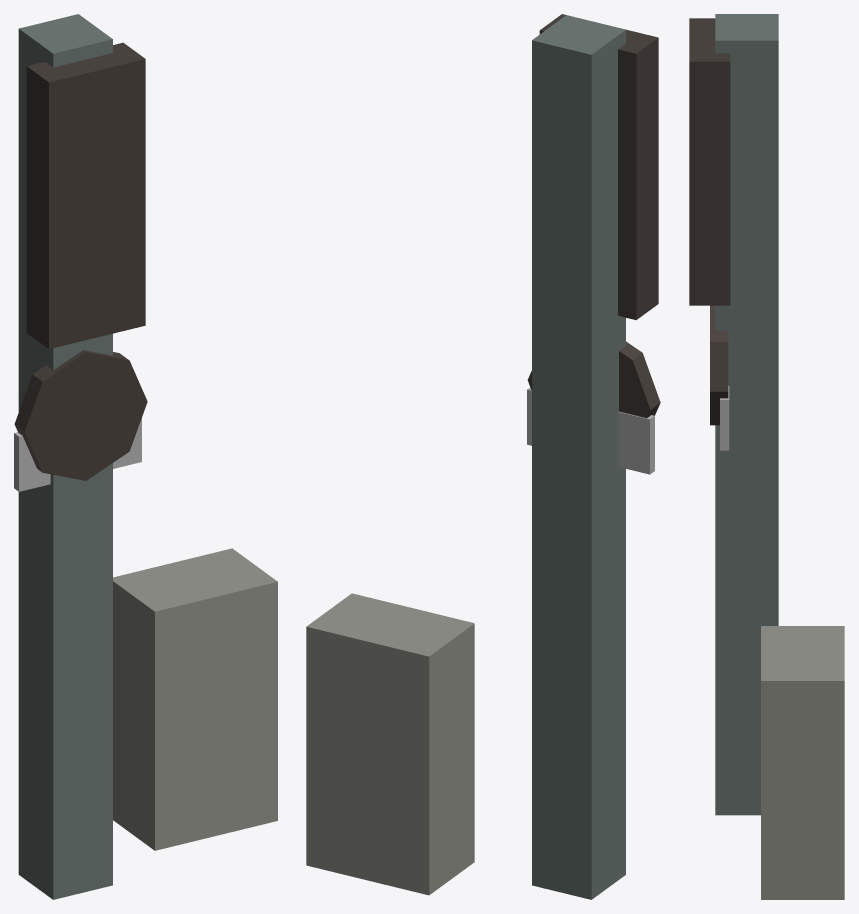
The model's file is SM_senal_via_v1_LOD1.fbx.
3 views of the same model, side by side, from view 1: azimuth 30°, elevation 25°; view 2: azimuth 150°, elevation 25°; view 3: azimuth 270°, elevation 25° (orthographic). The views are drawn at different scales.
Visible parts, largest first — view 1: SM_bloques.senal_via_v1_LOD1; view 2: SM_bloques.senal_via_v1_LOD1; view 3: SM_bloques.senal_via_v1_LOD1.
Part boxes in pixels (bbox=[...]): SM_bloques.senal_via_v1_LOD1: bbox=[14, 14, 277, 899]; SM_bloques.senal_via_v1_LOD1: bbox=[306, 14, 660, 899]; SM_bloques.senal_via_v1_LOD1: bbox=[689, 14, 844, 899].
Size of the model in its own units: 1.6 by 4.6 by 0.835.
